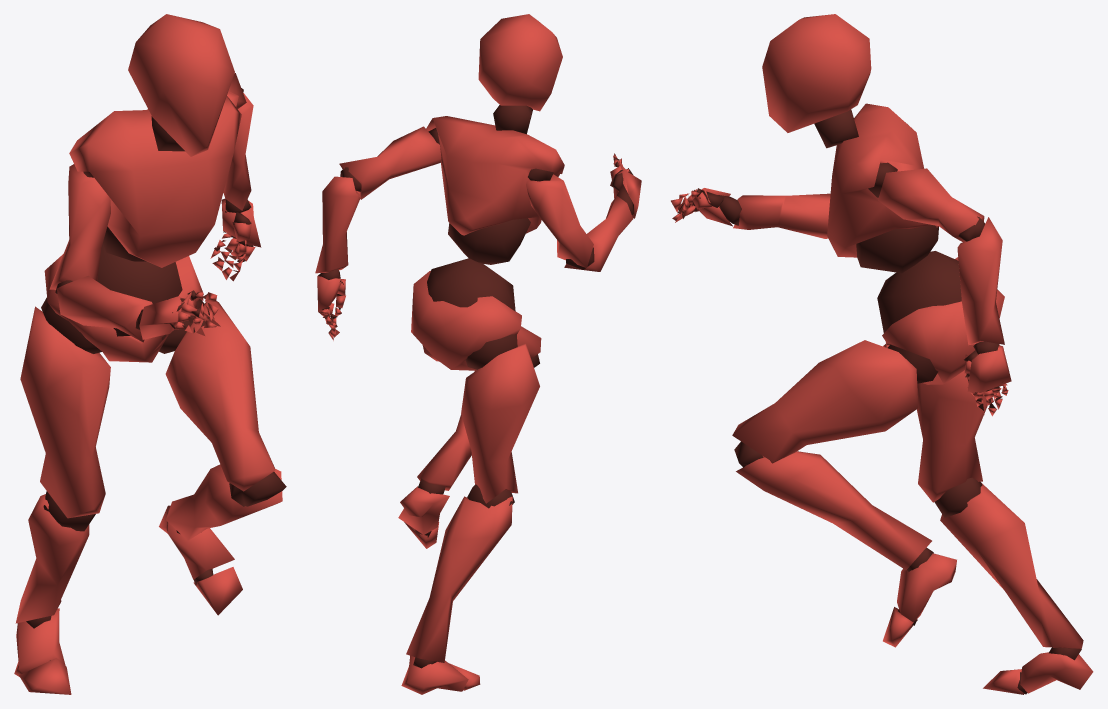
The picture shows the model from 3 angles, left to right: view 1: azimuth 30°, elevation 25°; view 2: azimuth 150°, elevation 25°; view 3: azimuth 270°, elevation 25°; orthographic projection. The views are drawn at different scales.
Visible parts, largest first — view 1: Beta_Surface; view 2: Beta_Surface; view 3: Beta_Surface.
Part boxes in pixels (x1=…): Beta_Surface: x1=14, y1=14, x2=286, y2=694; Beta_Surface: x1=315, y1=14, x2=641, y2=694; Beta_Surface: x1=671, y1=14, x2=1093, y2=694.
Size of the model in its own units: 5.67 by 14.75 by 8.24.
